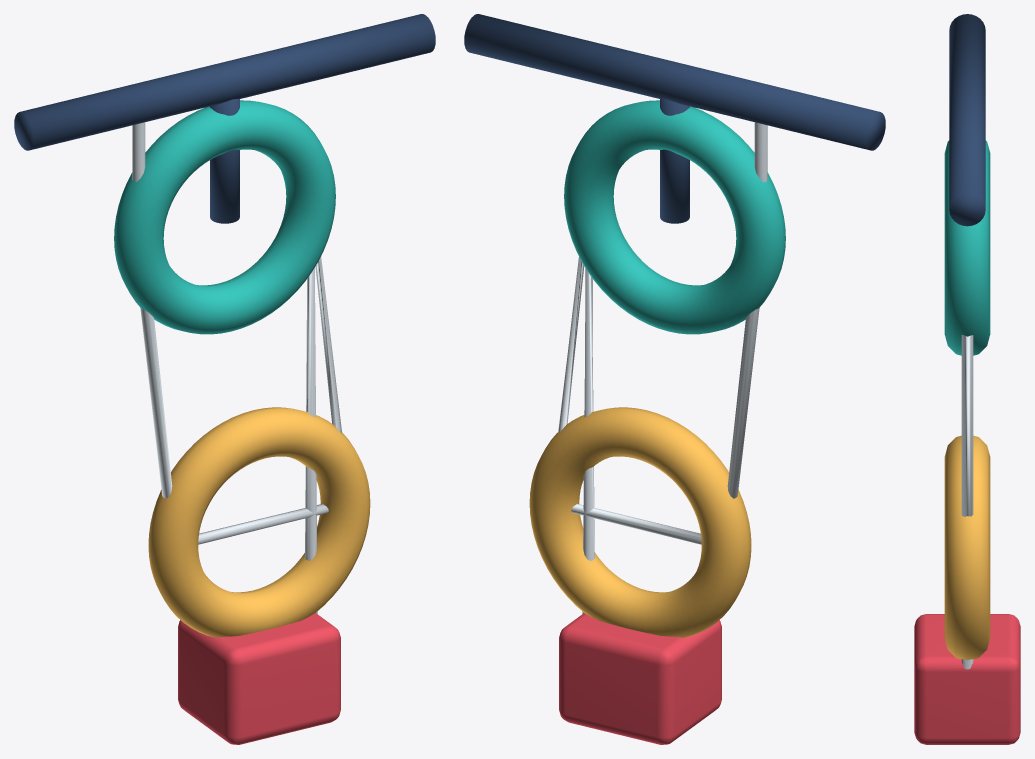
Rendered from double-pulley-quality.glb.
3 renders of one model, left to right at view 1: azimuth 30°, elevation 25°; view 2: azimuth 150°, elevation 25°; view 3: azimuth 270°, elevation 25°, orthographic. The views are drawn at different scales.
Visible parts, largest first — view 1: Upper; view 2: Upper; view 3: Upper.
Boxes of the visible parts, x1=… form: Upper: x1=14, y1=14, x2=435, y2=744; Upper: x1=464, y1=14, x2=885, y2=744; Upper: x1=914, y1=14, x2=1020, y2=744.
Size of the model in its own units: 1.4 by 2.2 by 0.35.
